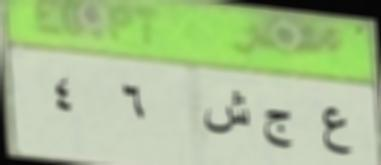4: (51, 73, 74, 115)
6: (118, 80, 150, 129)
ain: (312, 100, 354, 160)
jeem: (262, 106, 297, 151)
sheen: (200, 90, 252, 140)
